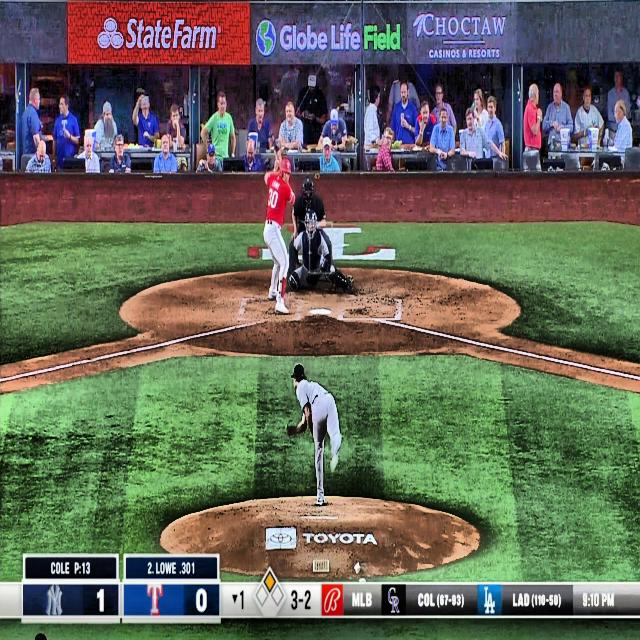baseball: (330, 266, 335, 274)
